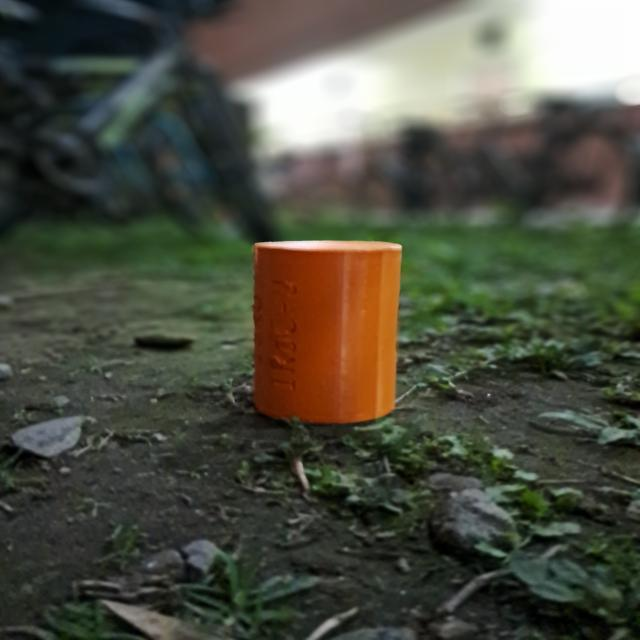Cylinder: (250, 239, 403, 425)
